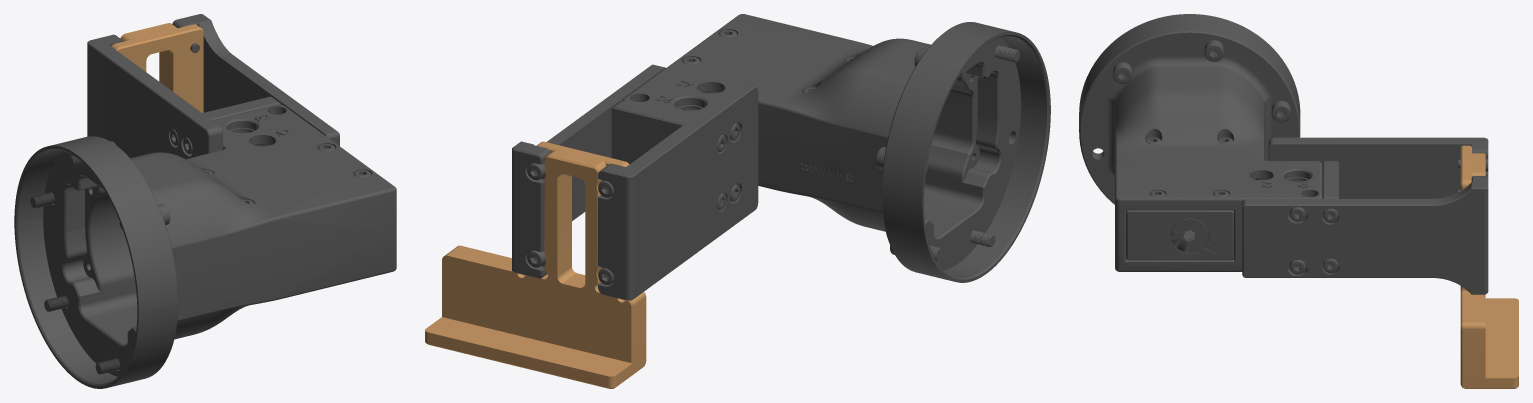
Rendered from gripper_base.glb.
The picture shows the model from 3 angles, left to right: view 1: azimuth 30°, elevation 25°; view 2: azimuth 150°, elevation 25°; view 3: azimuth 270°, elevation 25°; orthographic projection. The views are drawn at different scales.
Parts seen in each view (by area): view 1: left_gripper_base_link_high; view 2: left_gripper_base_link_high; view 3: left_gripper_base_link_high.
Boxes of the visible parts, x1,y1,x2,y2 form: left_gripper_base_link_high: (14, 14, 396, 388); left_gripper_base_link_high: (425, 14, 1050, 388); left_gripper_base_link_high: (1079, 14, 1518, 388).
Size of the model in its own units: 0.134 by 0.0873 by 0.159.
